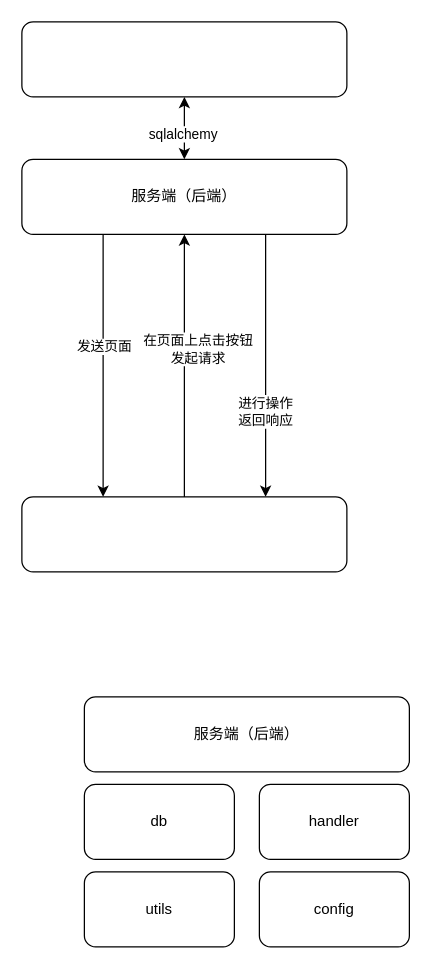
Image size: 431x969. Some labels were removed from this diagram. The centre of each missing label's shape, as x and y in pixels:
"客户端（用户浏览器）" belongs at (184,534).
"数据库" belongs at (184,59).
